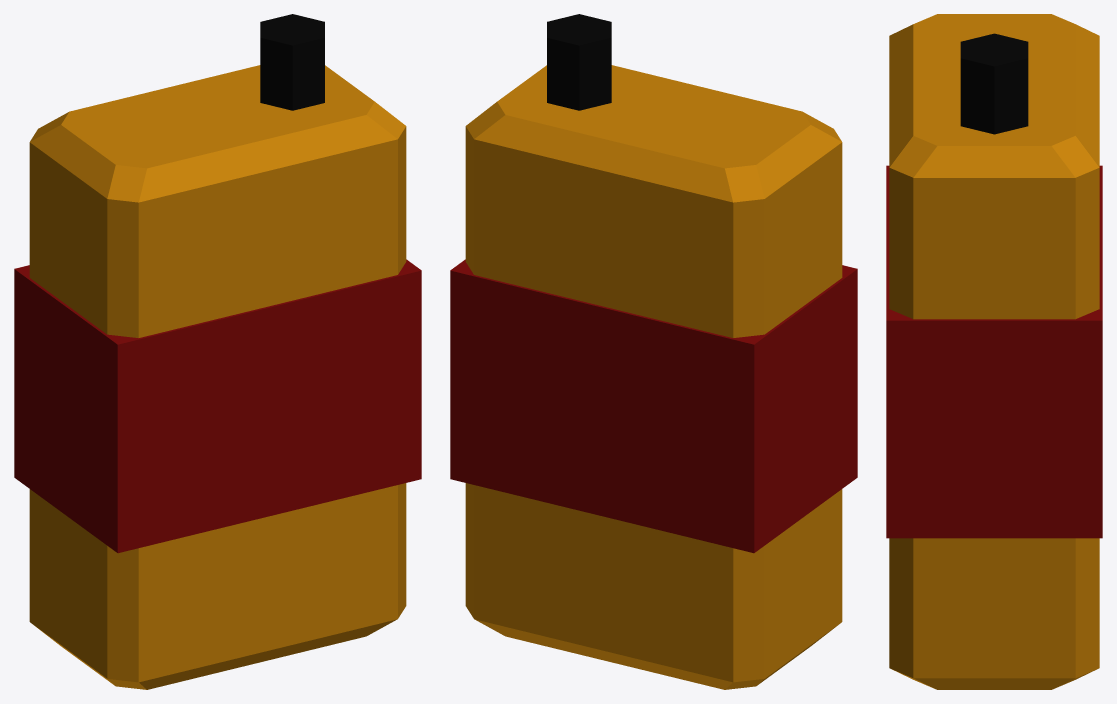
The model's file is SM_Prop_OilTin.glb.
The picture shows the model from 3 angles, left to right: view 1: azimuth 30°, elevation 25°; view 2: azimuth 150°, elevation 25°; view 3: azimuth 270°, elevation 25°; orthographic projection. The views are drawn at different scales.
Visible parts, largest first — view 1: SM_Prop_OilTin; view 2: SM_Prop_OilTin; view 3: SM_Prop_OilTin.
Part boxes in pixels (<box>): SM_Prop_OilTin: <box>14,14,421,689</box>; SM_Prop_OilTin: <box>450,14,857,689</box>; SM_Prop_OilTin: <box>886,14,1102,689</box>.
Size of the model in its own units: 0.122 by 0.225 by 0.072.
Materials: 1 (1 with a texture image).
